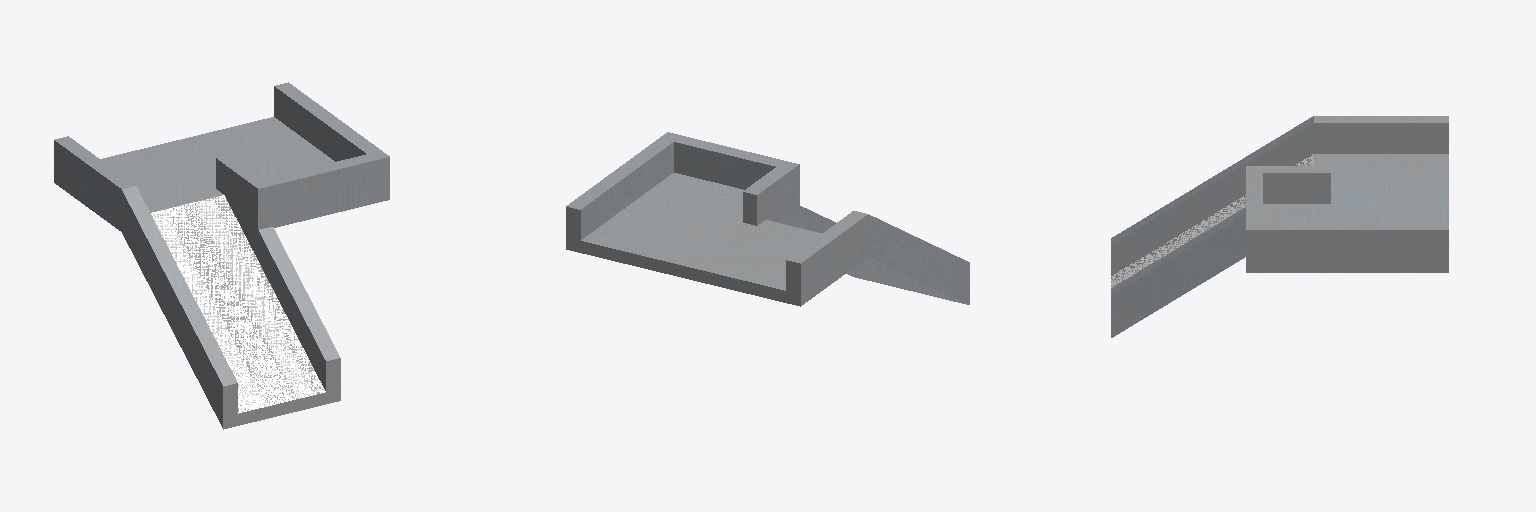
The model's file is platform-ramped.obj.
The picture shows the model from 3 angles: view 1: azimuth 30°, elevation 25°; view 2: azimuth 150°, elevation 25°; view 3: azimuth 270°, elevation 25°; orthographic projection.
Visible parts, largest first — view 1: Mesh1 Platform__Ramped1 Model; view 2: Mesh1 Platform__Ramped1 Model; view 3: Mesh1 Platform__Ramped1 Model.
Part boxes in pixels (x1,y1,x2,y2): Mesh1 Platform__Ramped1 Model: (54, 82, 389, 429); Mesh1 Platform__Ramped1 Model: (566, 132, 969, 306); Mesh1 Platform__Ramped1 Model: (1111, 116, 1448, 337).
Bounding box in the file's own units: 4 × 2.7 × 5.